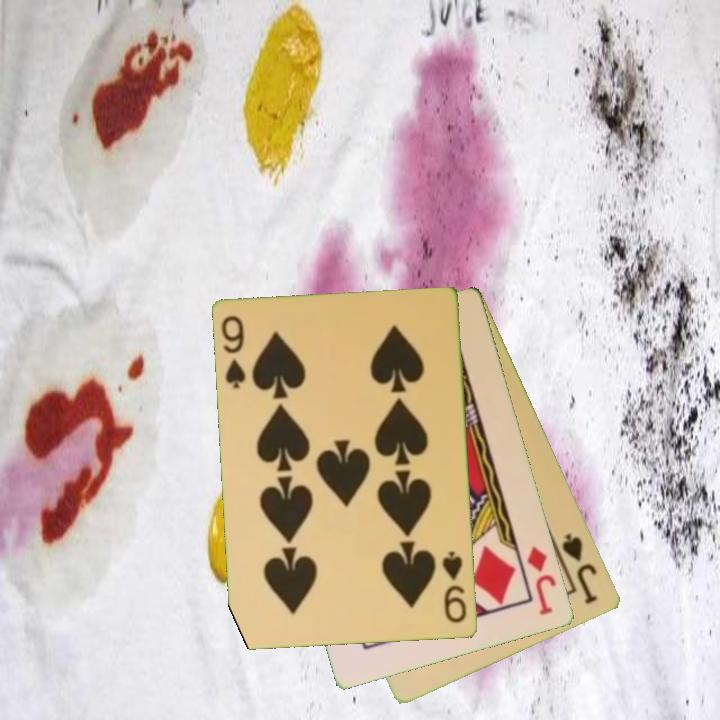9s: (218, 313, 249, 392), (439, 548, 470, 626)
Jd: (523, 543, 560, 618)
Js: (559, 530, 601, 607)
